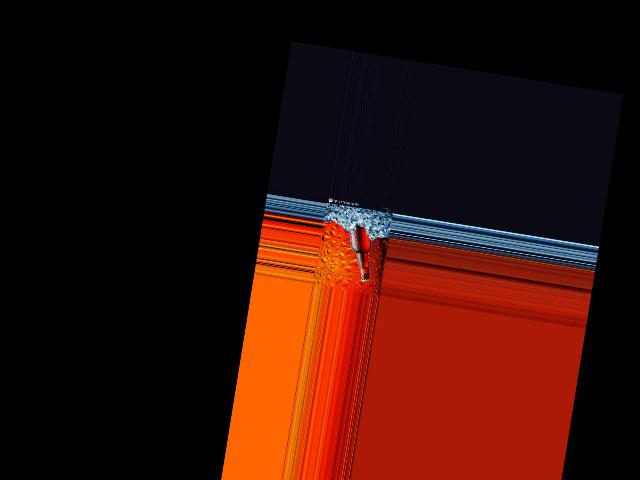beer: (342, 223, 380, 282)
